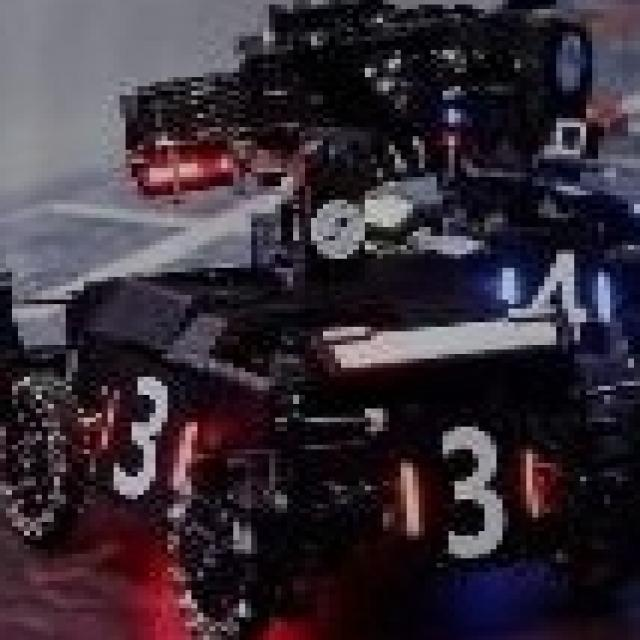B4: (497, 250, 610, 340)
R3: (395, 427, 538, 558), (96, 372, 191, 499)
